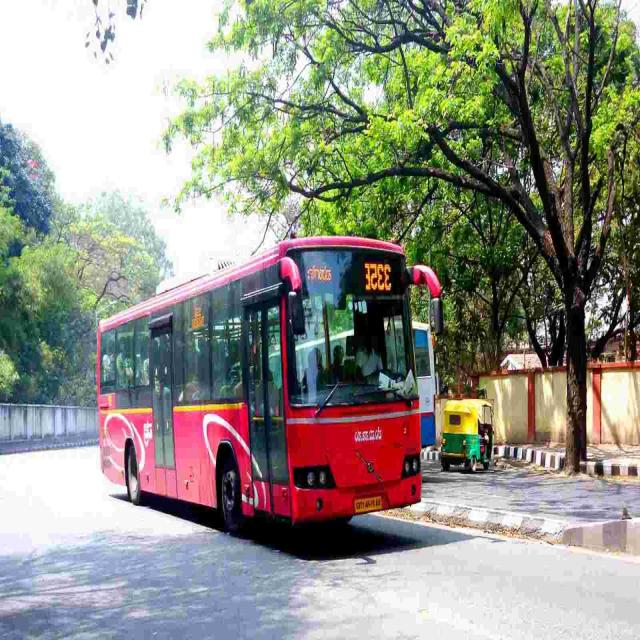autorickshaw: (441, 400, 494, 472)
bus: (98, 238, 441, 529)
